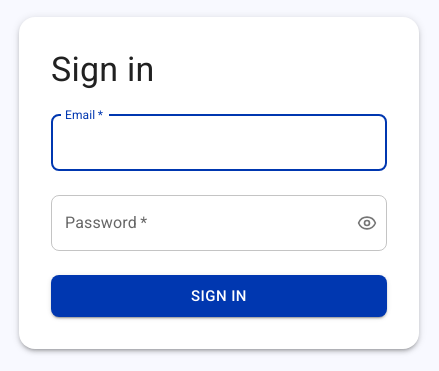
Test: Login › password visibility › masks the password again when toggled back
Step 1. Click the button named "show password" → (367, 223), box [349, 205, 385, 241]
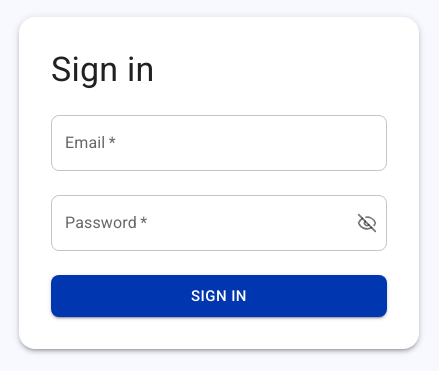
Step 2. Click the button named "hide password" → (367, 223), box [349, 205, 385, 241]
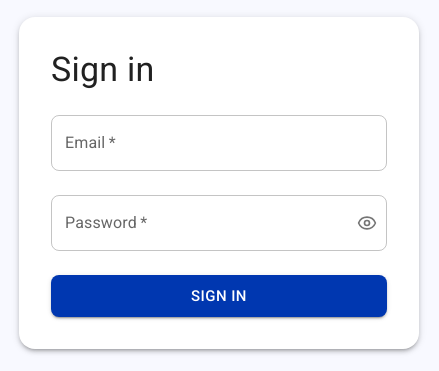
Expected: the button named "show password" is shown, [349, 205, 385, 241]
